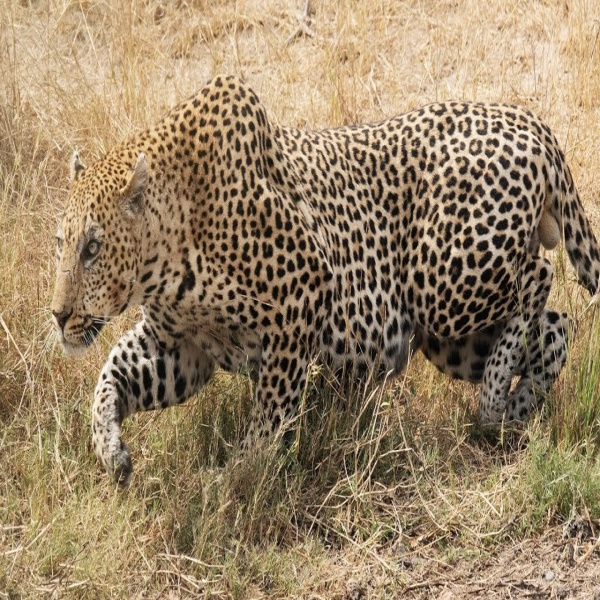Leopard: (47, 71, 600, 489)
